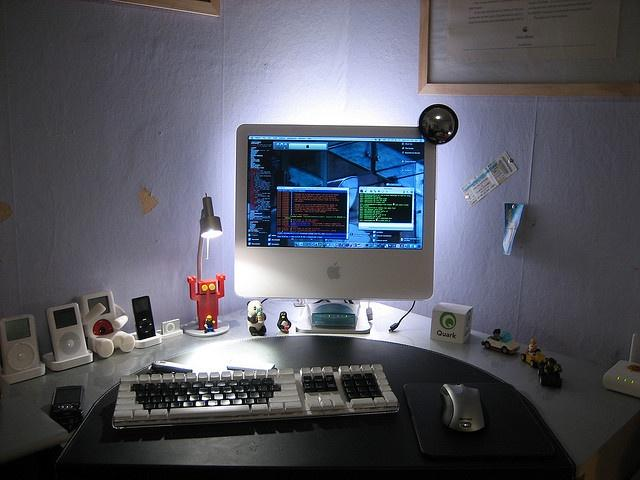AIO PC-Monitor-TV: (234, 120, 438, 335)
